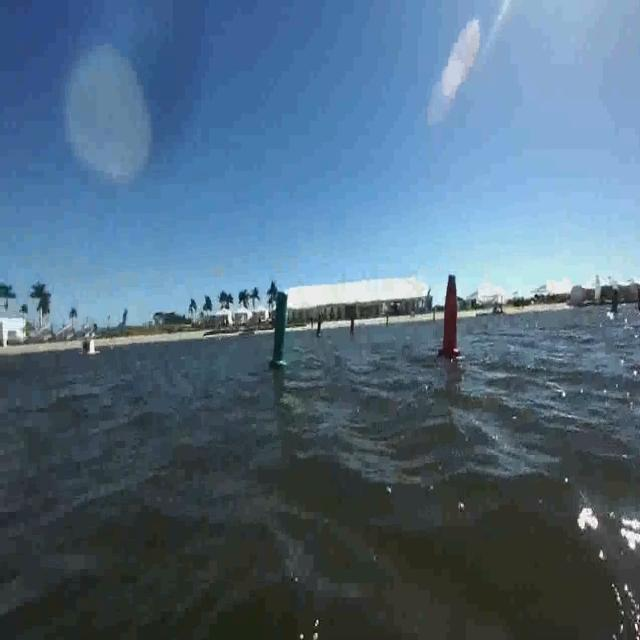green-column-buoy: (270, 292, 290, 371)
red-column-buoy: (442, 270, 463, 358)
